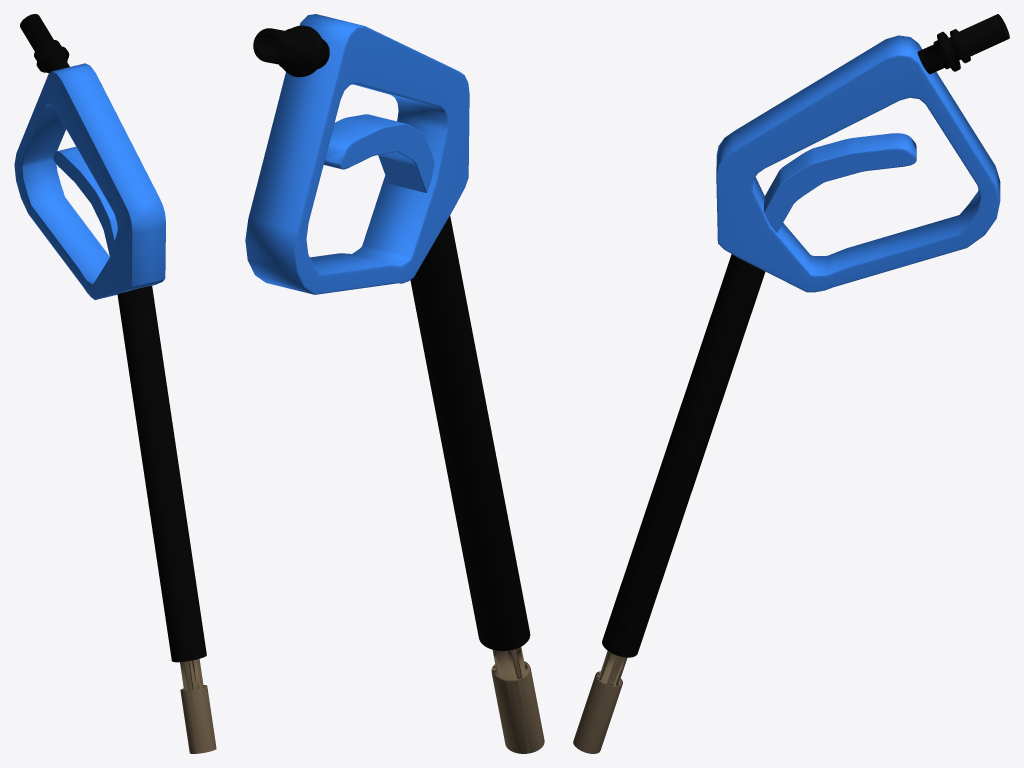
File: Моющий пистолет2.fbx
3 renders of one model, left to right at view 1: azimuth 30°, elevation 25°; view 2: azimuth 150°, elevation 25°; view 3: azimuth 270°, elevation 25°, orthographic. The views are drawn at different scales.
Parts seen in each view (by area): view 1: Цилиндр.018; view 2: Цилиндр.018; view 3: Цилиндр.018.
Part boxes in pixels (x1=…): Цилиндр.018: x1=14, y1=14, x2=216, y2=753; Цилиндр.018: x1=245, y1=14, x2=544, y2=753; Цилиндр.018: x1=573, y1=14, x2=1009, y2=753.
Size of the model in its own units: 16.16 by 273 by 147.
